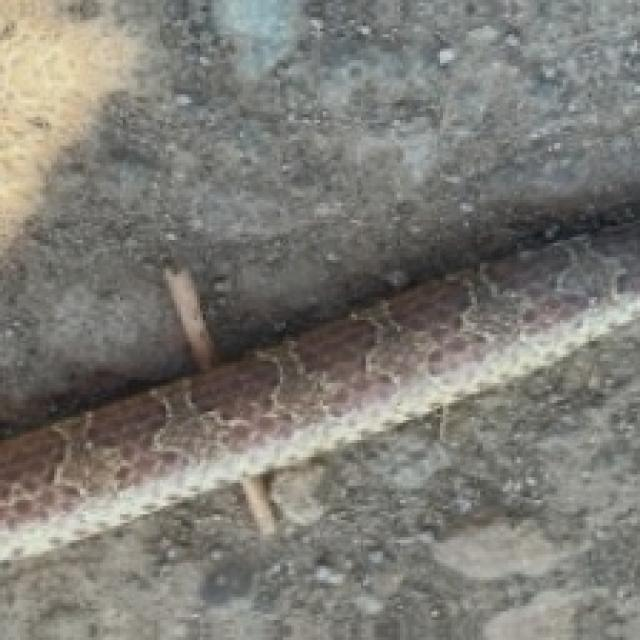mullers wolf snake: (0, 0, 637, 431), (0, 223, 637, 637), (0, 323, 637, 637)
